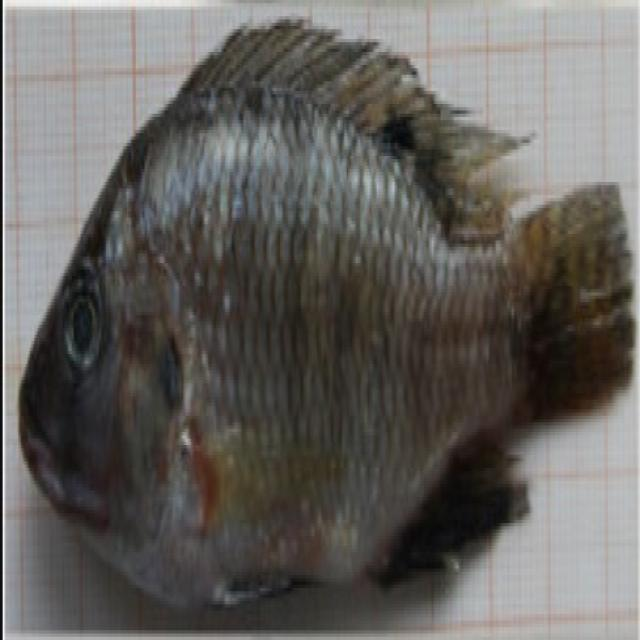ikan: (17, 10, 635, 611)
